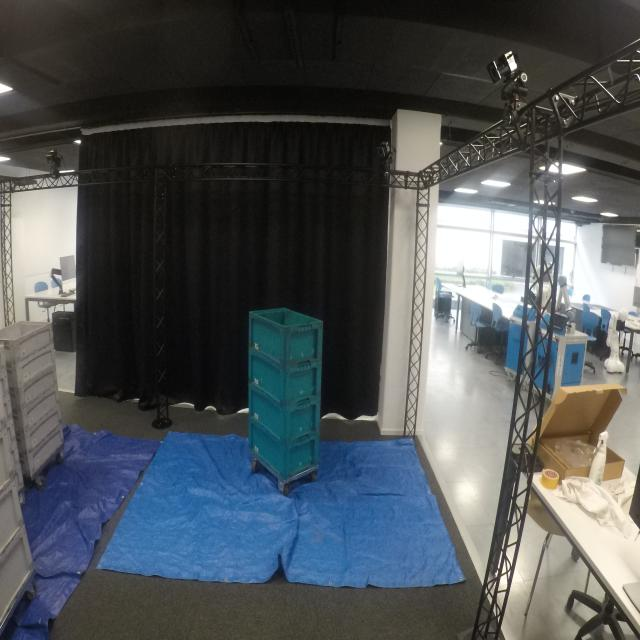BoxB4: (244, 302, 323, 365), (247, 417, 319, 478), (248, 383, 324, 437), (247, 352, 322, 403)
